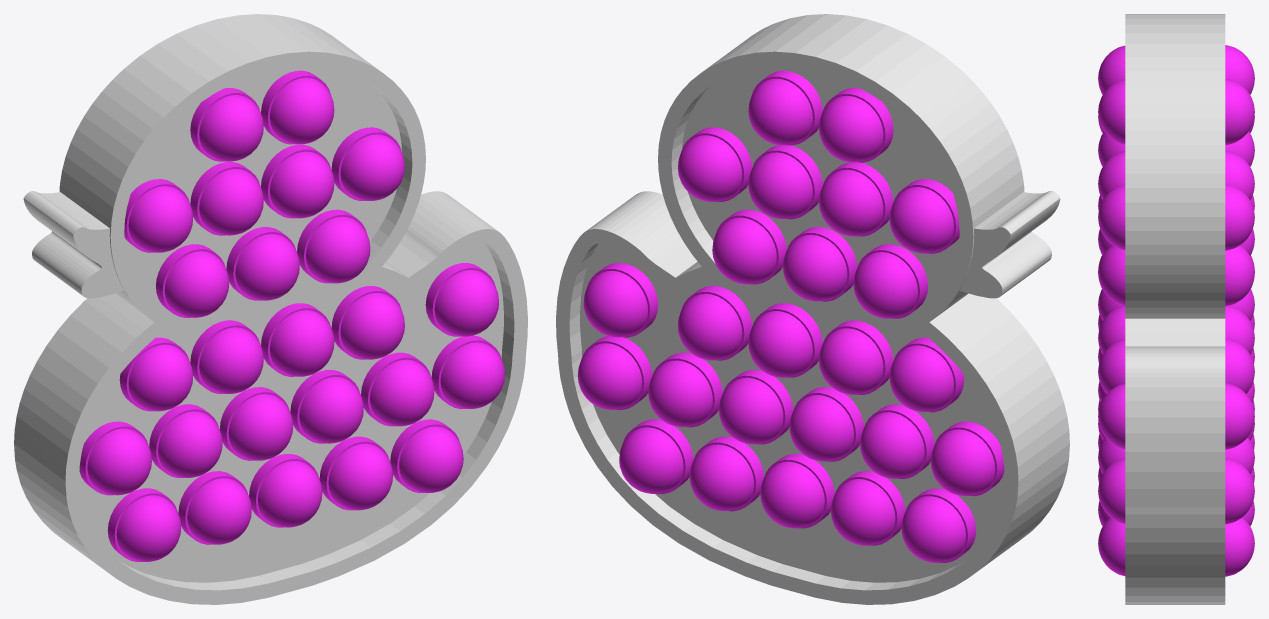
The picture shows the model from 3 angles, left to right: view 1: azimuth 30°, elevation 25°; view 2: azimuth 150°, elevation 25°; view 3: azimuth 270°, elevation 25°; orthographic projection. The views are drawn at different scales.
Parts seen in each view (by area): view 1: Extrude.010, External8, Sphere.911, Sphere.908, Sphere.924, Sphere.920, Sphere.929, Sphere.918, Sphere.914, Sphere.931, Sphere.932, Sphere.915 (+40 smaller); view 2: Extrude.010, External8, Sphere.904, Sphere.900, Sphere.886, Sphere.887, Sphere.883, Sphere.884, Sphere.889, Sphere.899, Sphere.905, Sphere.888 (+40 smaller); view 3: Extrude.010, Sphere.902, Sphere.888, Sphere.884, Sphere.901, Sphere.890, Sphere.927, Sphere.909, Sphere.913, Sphere.926, Sphere.907, Sphere.915 (+15 smaller).
Boxes of the visible parts, x1=… form: Extrude.010: x1=14, y1=14, x2=527, y2=604; External8: x1=23, y1=191, x2=124, y2=298; Sphere.911: x1=199, y1=168, x2=263, y2=235; Sphere.908: x1=199, y1=95, x2=263, y2=161; Sphere.924: x1=299, y1=376, x2=363, y2=443; Sphere.920: x1=340, y1=293, x2=404, y2=359; Sphere.929: x1=187, y1=478, x2=251, y2=544; Sphere.918: x1=199, y1=327, x2=263, y2=393; Sphere.914: x1=235, y1=234, x2=299, y2=300; Sphere.931: x1=328, y1=443, x2=392, y2=510; Sphere.932: x1=399, y1=426, x2=463, y2=492; Sphere.915: x1=306, y1=216, x2=370, y2=283; Extrude.010: x1=556, y1=14, x2=1069, y2=604; External8: x1=959, y1=191, x2=1060, y2=298; Sphere.904: x1=831, y1=479, x2=895, y2=545; Sphere.900: x1=648, y1=360, x2=712, y2=427; Sphere.886: x1=819, y1=169, x2=883, y2=236; Sphere.887: x1=748, y1=152, x2=812, y2=219; Sphere.883: x1=819, y1=95, x2=883, y2=162; Sphere.884: x1=748, y1=78, x2=812, y2=145; Sphere.889: x1=783, y1=234, x2=847, y2=301; Sphere.899: x1=719, y1=377, x2=783, y2=444; Sphere.905: x1=760, y1=461, x2=824, y2=528; Sphere.888: x1=677, y1=135, x2=742, y2=201; Extrude.010: x1=1125, y1=14, x2=1225, y2=604; Sphere.902: x1=1225, y1=383, x2=1254, y2=449; Sphere.888: x1=1225, y1=184, x2=1254, y2=250; Sphere.884: x1=1225, y1=78, x2=1254, y2=145; Sphere.901: x1=1225, y1=458, x2=1254, y2=524; Sphere.890: x1=1225, y1=245, x2=1254, y2=306; Sphere.927: x1=1098, y1=383, x2=1125, y2=448; Sphere.909: x1=1098, y1=79, x2=1125, y2=144; Sphere.913: x1=1098, y1=184, x2=1125, y2=249; Sphere.926: x1=1098, y1=458, x2=1125, y2=523; Sphere.907: x1=1225, y1=517, x2=1254, y2=576; Sphere.915: x1=1098, y1=245, x2=1125, y2=305.
Bounding box in the file's own units: 19.65 × 21.96 × 5.93.
